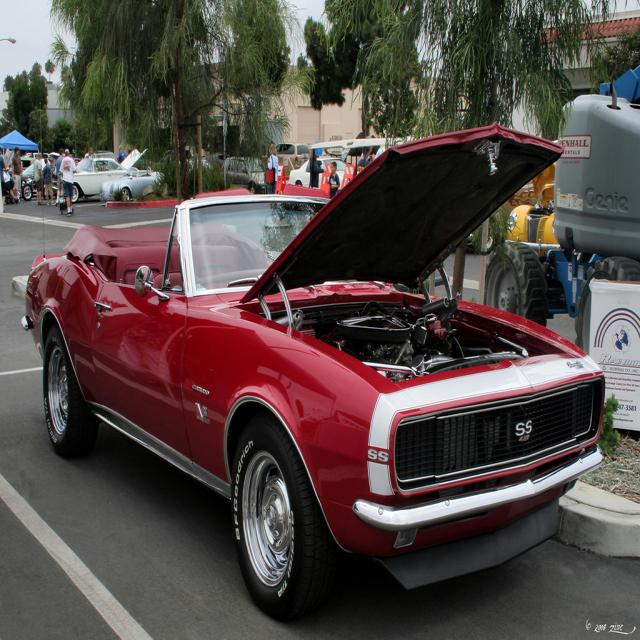car: (9, 98, 609, 626)
